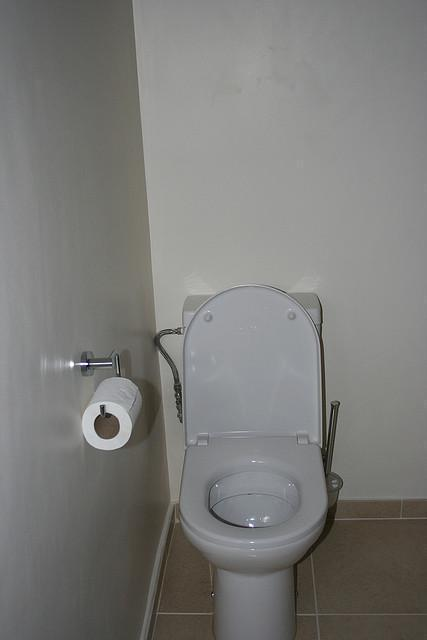Sanitario: (163, 278, 329, 635)
